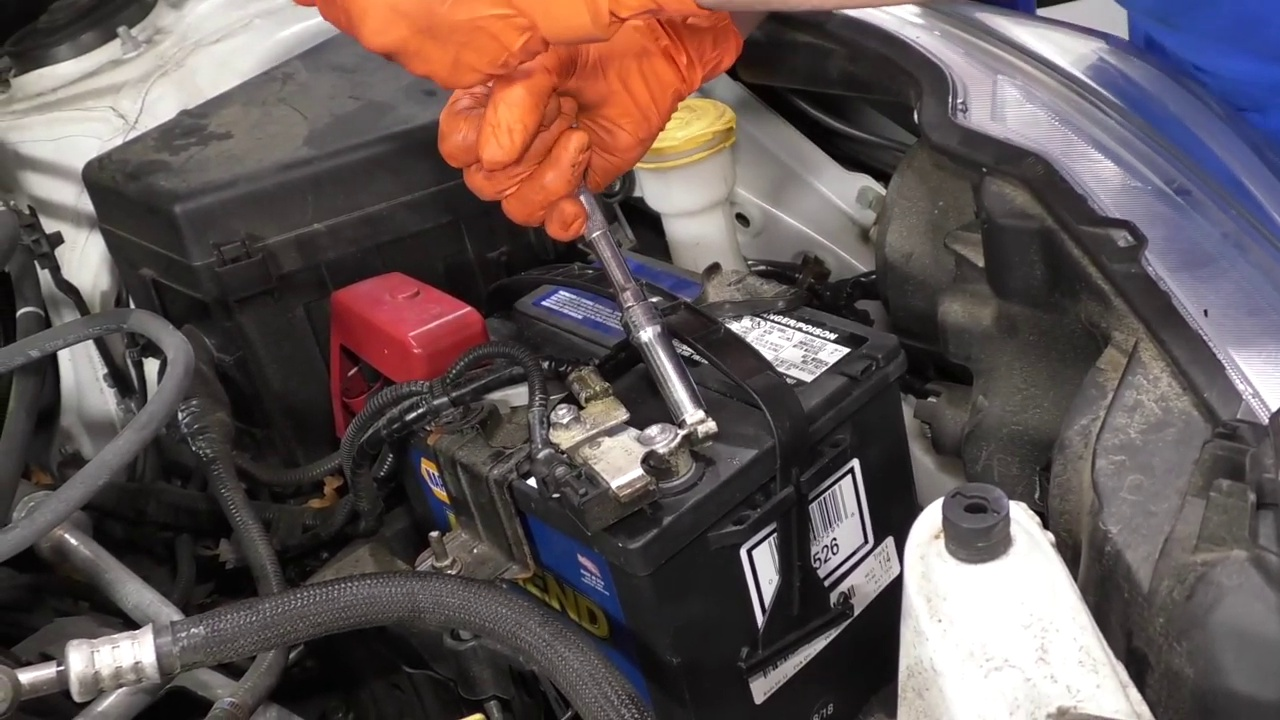battery: (371, 247, 890, 559)
neg_connected: (566, 396, 701, 512)
pos_connected: (290, 249, 480, 430)
